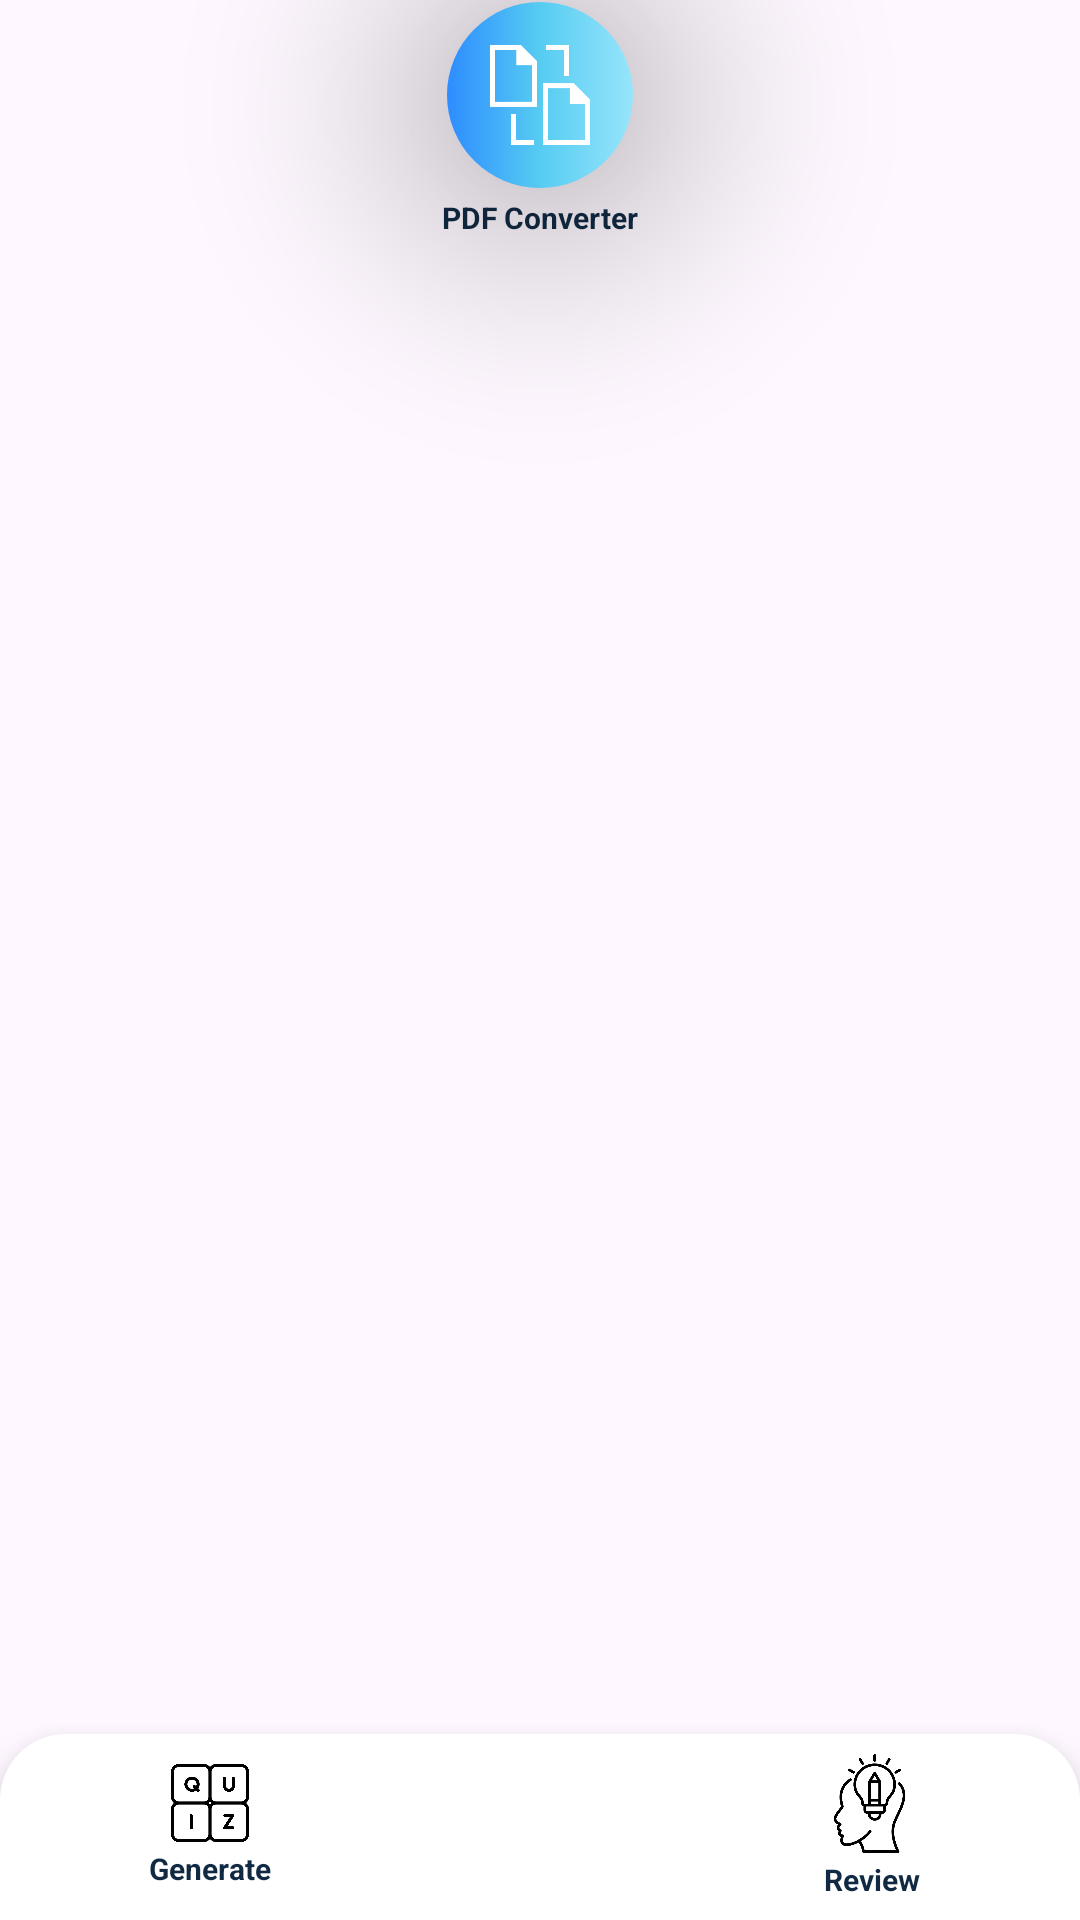

Icons on this 1080w x 1920h Android screen, each with the point to tap as [x,y]:
pdf convert nav: [540,95]
